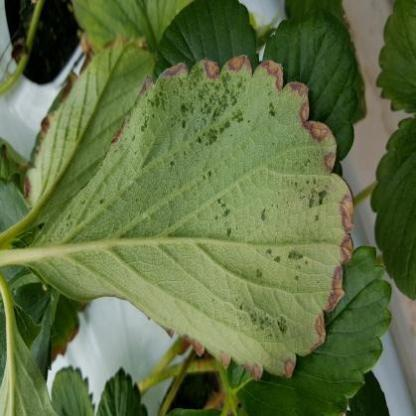Strawberry_Angular_LeafSpot: (25, 54, 355, 382)
